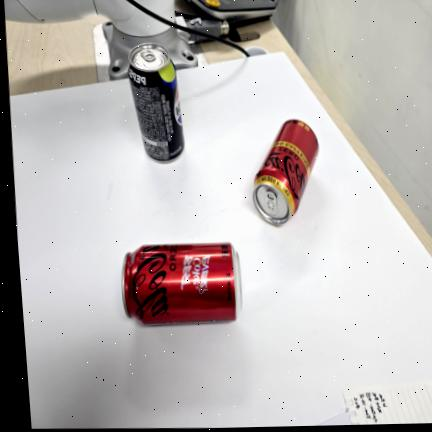can_coke_decaf: (253, 118, 318, 224)
can_coke_zero: (121, 242, 242, 325)
can_pepsi_zero: (128, 43, 184, 162)
